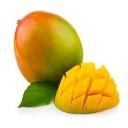mango: (13, 10, 84, 93)
